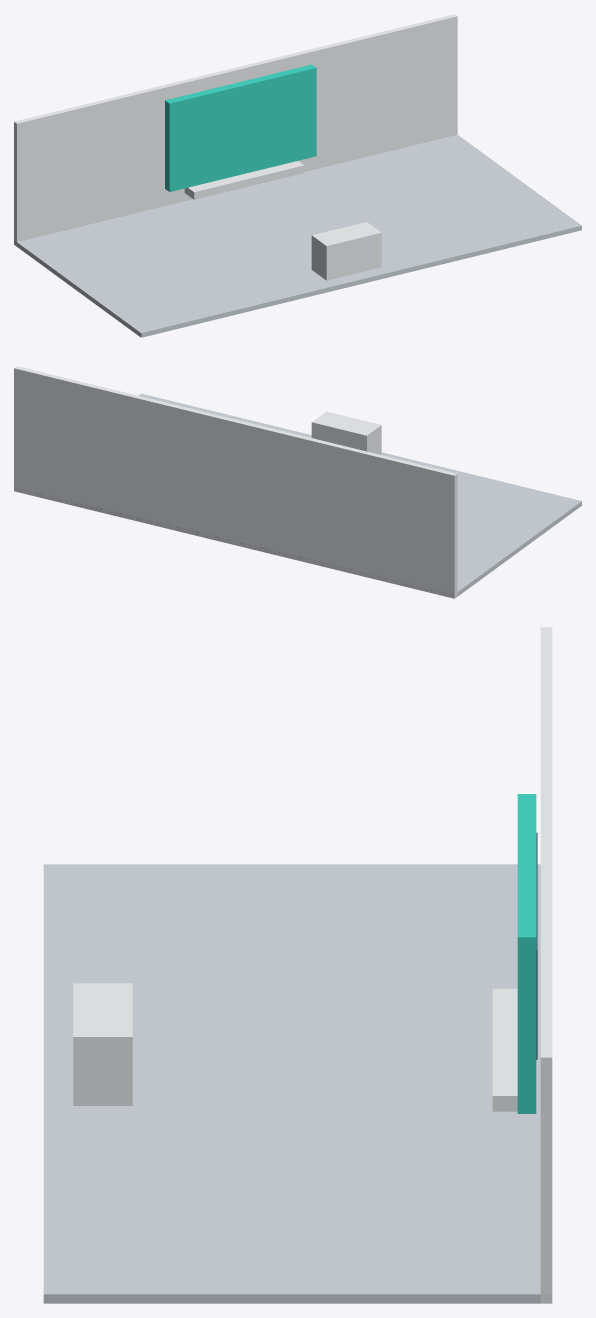
The picture shows the model from 3 angles, top to bottom: view 1: azimuth 30°, elevation 25°; view 2: azimuth 150°, elevation 25°; view 3: azimuth 270°, elevation 25°; orthographic projection. The views are drawn at different scales.
Parts seen in each view (by area): view 1: Exhibition Booth Concept; view 2: Exhibition Booth Concept; view 3: Exhibition Booth Concept.
Part boxes in pixels (x1,y1,x2,y2): Exhibition Booth Concept: [14, 14, 581, 337]; Exhibition Booth Concept: [14, 366, 581, 598]; Exhibition Booth Concept: [43, 627, 552, 1303].
Size of the model in its own units: 12 by 3.2 by 6.
